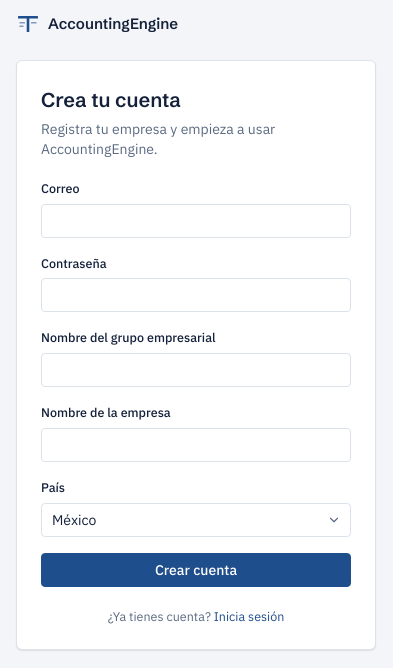
Test: RegisterPage › registers the tenant owner and redirects to login with a success message
The image size is (393, 668).
Type "owner@acme.test" into the field labelled "Correo".
click(196, 220); type("owner@acme.test")  # box [41, 204, 351, 238]
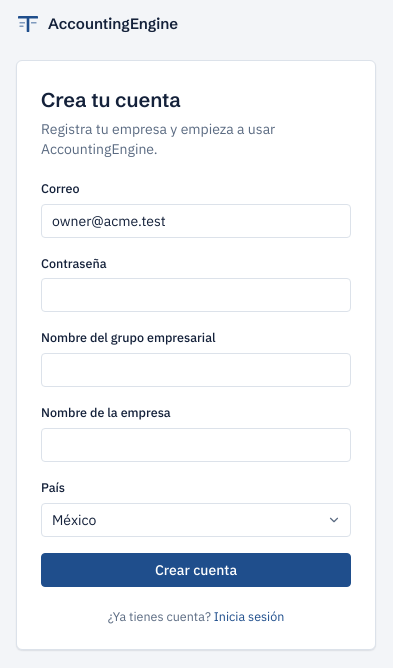
Type "s3cret-password" into the password field labelled "Contraseña".
click(196, 295); type("s3cret-password")  # box [41, 278, 351, 312]
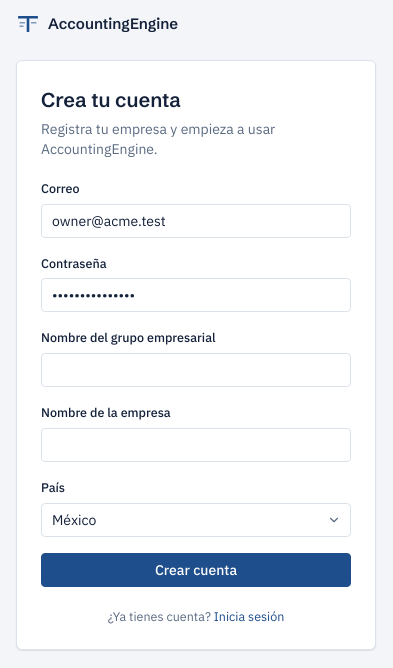
Type "Acme" into the field labelled "Nombre del grupo empresarial".
click(196, 370); type("Acme")  # box [41, 353, 351, 387]
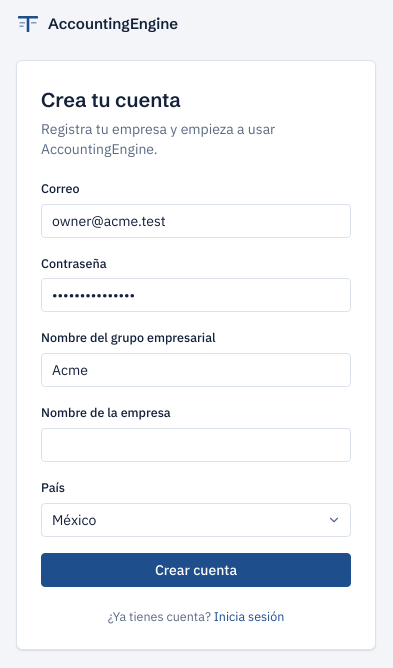
Type "Acme MX" into the field labelled "Nombre de la empresa".
click(196, 445); type("Acme MX")  # box [41, 428, 351, 462]
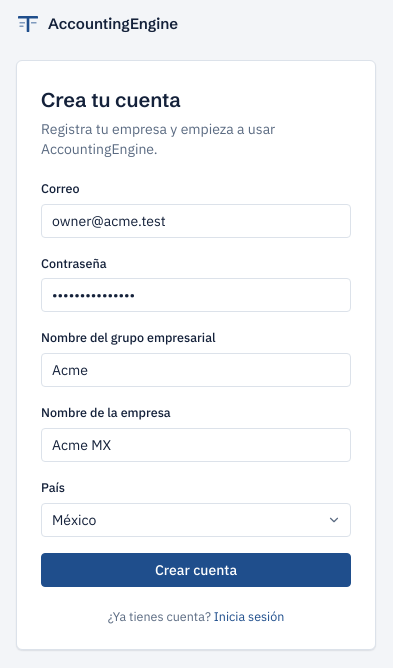
Click the button "Crear cuenta".
click(196, 570)  # box [41, 552, 351, 586]
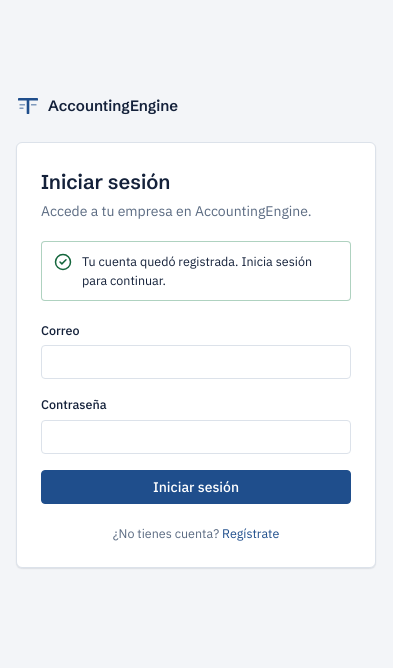
Check: the heading "Iniciar sesión" is shown, box [41, 169, 170, 194]
Check: the text "Tu cuenta quedó registrada. Inicia sesión para continuar." is shown, box [82, 252, 338, 290]
